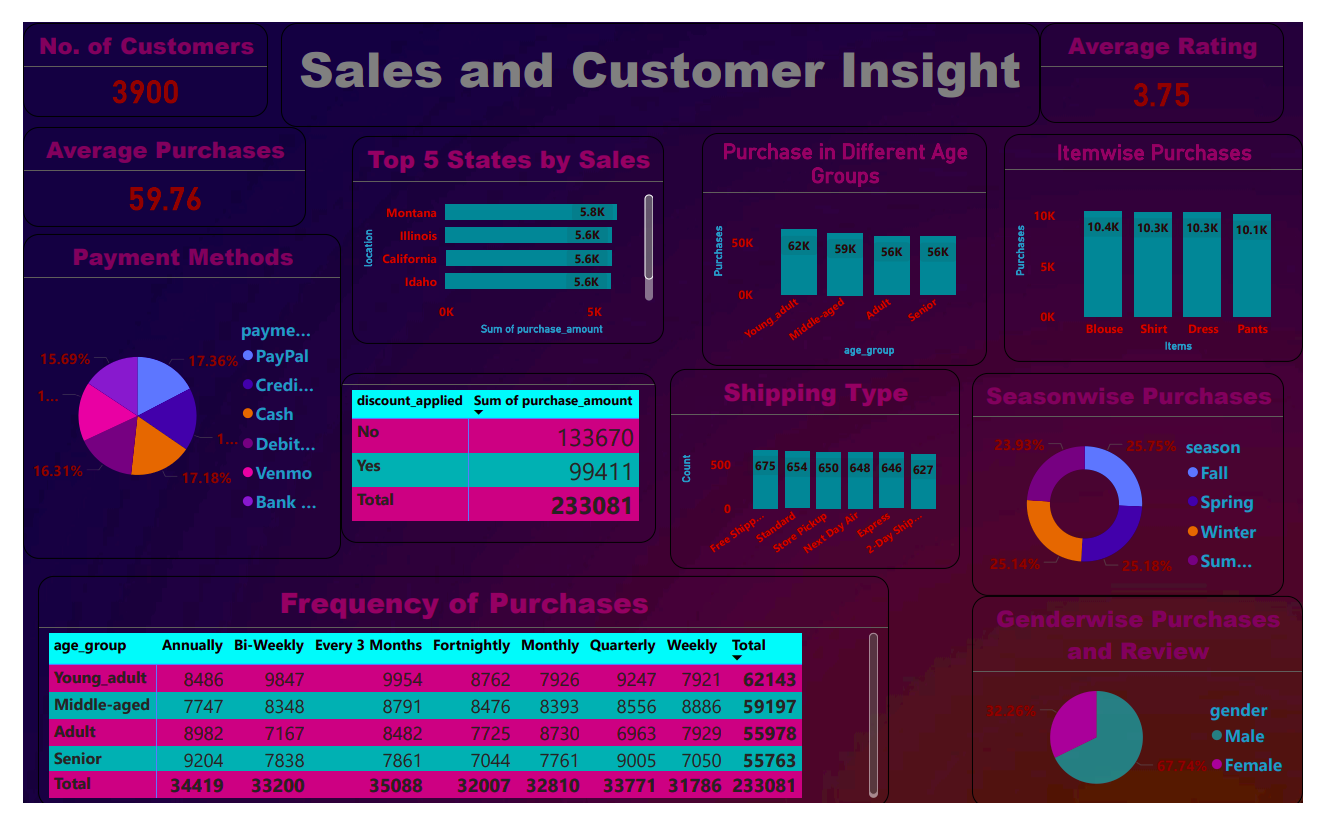

The dashboard page shown, as its layout file describes it:
{"tool":"powerbi","page":{"name":"Page 1","canvas":[1280,780],"ordinal":0},"visuals":[{"type":"card","title":"Average Rating","fields":{"Values":["mydatabase customers.Average_review_rating"]},"box":[1016.6,0,244.6,99.6],"z":0},{"type":"clusteredColumnChart","title":"Purchase in Different Age Groups","fields":{"Category":["mydatabase customers.age_group"],"Y":["Sum(mydatabase customers.purchase_amount)"]},"box":[678.6,110,285.7,232.9],"z":1000},{"type":"clusteredColumnChart","title":"Itemwise Purchases","fields":{"Category":["mydatabase customers.item_purchased"],"Y":["Sum(mydatabase customers.purchase_amount)"]},"box":[981.4,111.4,298.6,227.1],"z":2000},{"type":"pieChart","title":"Genderwise Purchases and Review","fields":{"Category":["mydatabase customers.gender"],"Y":["Sum(mydatabase customers.purchase_amount)"]},"box":[949.2,572.8,331.1,212.4],"z":3000},{"type":"clusteredBarChart","title":"Top 5 States by Sales","fields":{"Category":["mydatabase customers.location"],"Y":["Sum(mydatabase customers.purchase_amount)"]},"box":[328.6,112.9,312.9,208.6],"z":4000},{"type":"card","title":"Average Purchases","fields":{"Values":["mydatabase customers.Avgerage_purchase_amount"]},"box":[0,104,282.7,99.6],"z":5000},{"type":"card","title":"No. of Customers","fields":{"Values":["Count(mydatabase customers.customer_id)"]},"box":[0,0,244.6,93.8],"z":6000},{"type":"donutChart","title":"Seasonwise Purchases","fields":{"Category":["mydatabase customers.season"],"Y":["Sum(mydatabase customers.purchase_amount)"]},"box":[949.2,350.1,312,222.7],"z":7000},{"type":"clusteredColumnChart","title":"Shipping Type","fields":{"Category":["mydatabase customers.shipping_type"],"Y":["CountNonNull(mydatabase customers.shipping_type)"]},"box":[647.1,345.7,290,200],"z":8000},{"type":"pieChart","title":"Payment Methods","fields":{"Category":["mydatabase customers.payment_method"],"Y":["CountNonNull(mydatabase customers.payment_method)"]},"box":[0,210.9,317.9,325.2],"z":9000},{"type":"pivotTable","title":"Frequency of Purchases","fields":{"Rows":["mydatabase customers.age_group"],"Columns":["mydatabase customers.frequency_of_purchases"],"Values":["Sum(mydatabase customers.purchase_amount)"]},"box":[15.1,553,850.8,231.9],"z":10000},{"type":"pivotTable","fields":{"Rows":["mydatabase customers.discount_applied"],"Values":["Sum(mydatabase customers.purchase_amount)"]},"box":[317.9,350.1,314.9,169.9],"z":11000},{"type":"textbox","box":[258,0,758.8,104.3],"z":12000}]}

Visuals, with their boxes in screenshot pixels (x1, y1, x2, y2), scaled from the page's 1280x780 canvas onto the 1326x823 screenshot:
"Average Rating" card: BBox(1053, 0, 1307, 105)
"Purchase in Different Age Groups" clusteredColumnChart: BBox(703, 116, 999, 362)
"Itemwise Purchases" clusteredColumnChart: BBox(1017, 118, 1325, 357)
"Genderwise Purchases and Review" pieChart: BBox(983, 604, 1325, 822)
"Top 5 States by Sales" clusteredBarChart: BBox(340, 119, 665, 339)
"Average Purchases" card: BBox(0, 110, 293, 215)
"No. of Customers" card: BBox(0, 0, 253, 99)
"Seasonwise Purchases" donutChart: BBox(983, 369, 1307, 604)
"Shipping Type" clusteredColumnChart: BBox(670, 365, 971, 576)
"Payment Methods" pieChart: BBox(0, 223, 329, 566)
"Frequency of Purchases" pivotTable: BBox(16, 583, 897, 822)
pivotTable - mydatabase customers.discount_applied x Sum(mydatabase customers.purchase_amount): BBox(329, 369, 656, 549)
textbox: BBox(267, 0, 1053, 110)
